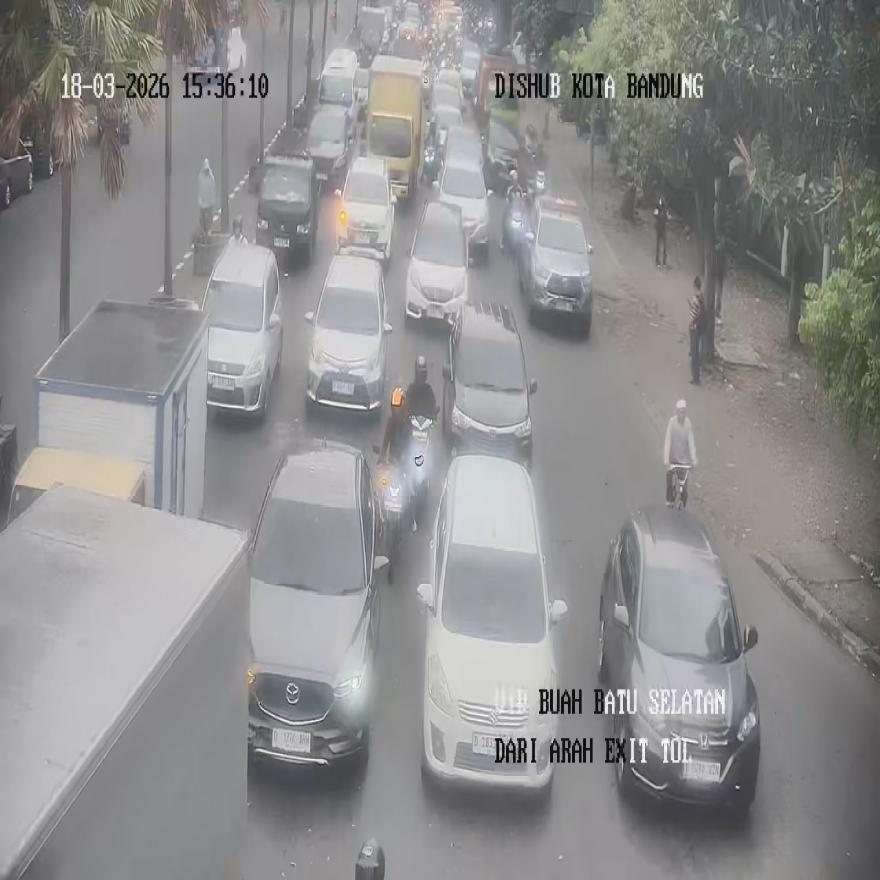Mobil: (416, 453, 566, 792), (598, 507, 760, 812), (246, 436, 389, 770), (201, 237, 283, 419), (442, 299, 536, 456), (303, 248, 391, 414), (518, 196, 594, 331), (404, 198, 468, 326), (256, 147, 318, 265), (337, 154, 395, 263)
Motor: (665, 398, 696, 509), (408, 415, 434, 530), (501, 185, 525, 254), (666, 462, 690, 510), (422, 140, 438, 184)
